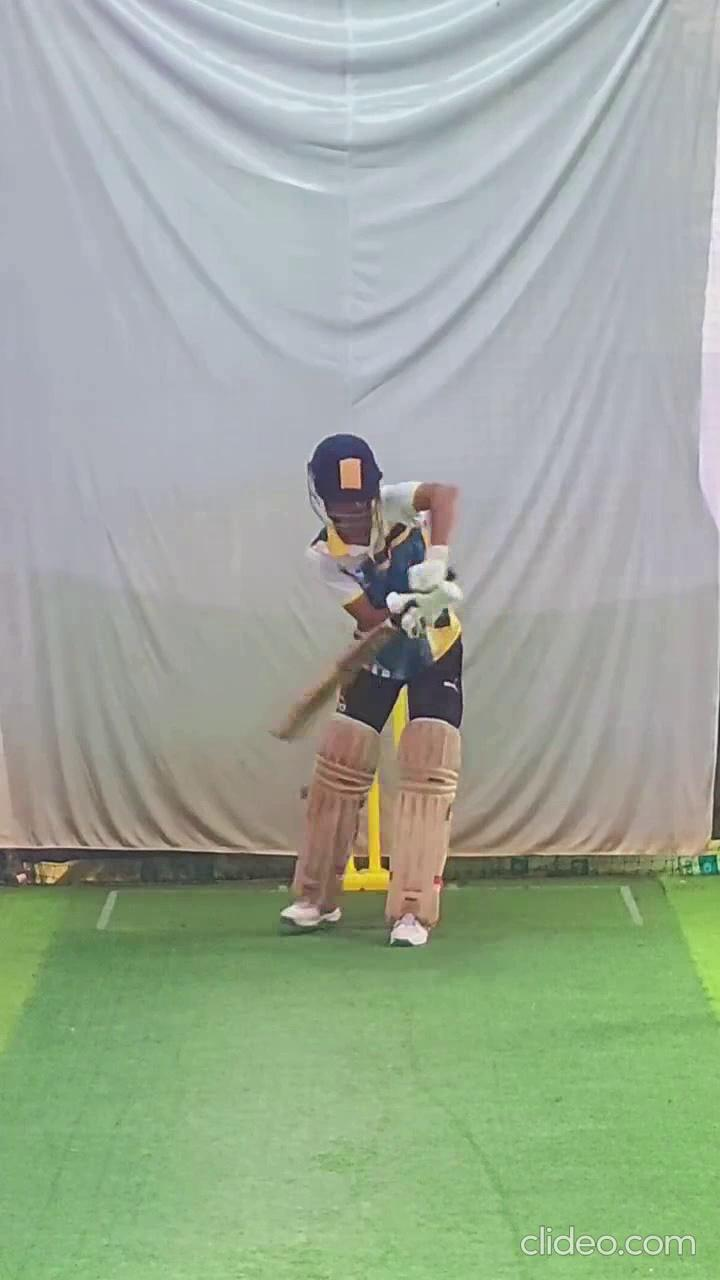bat: (263, 610, 400, 754)
